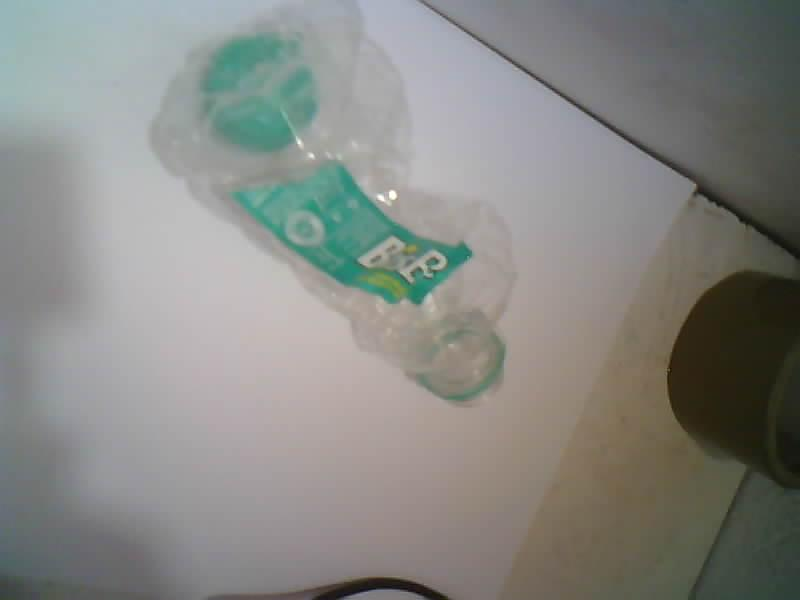non-biodegradable: (152, 0, 513, 400)
